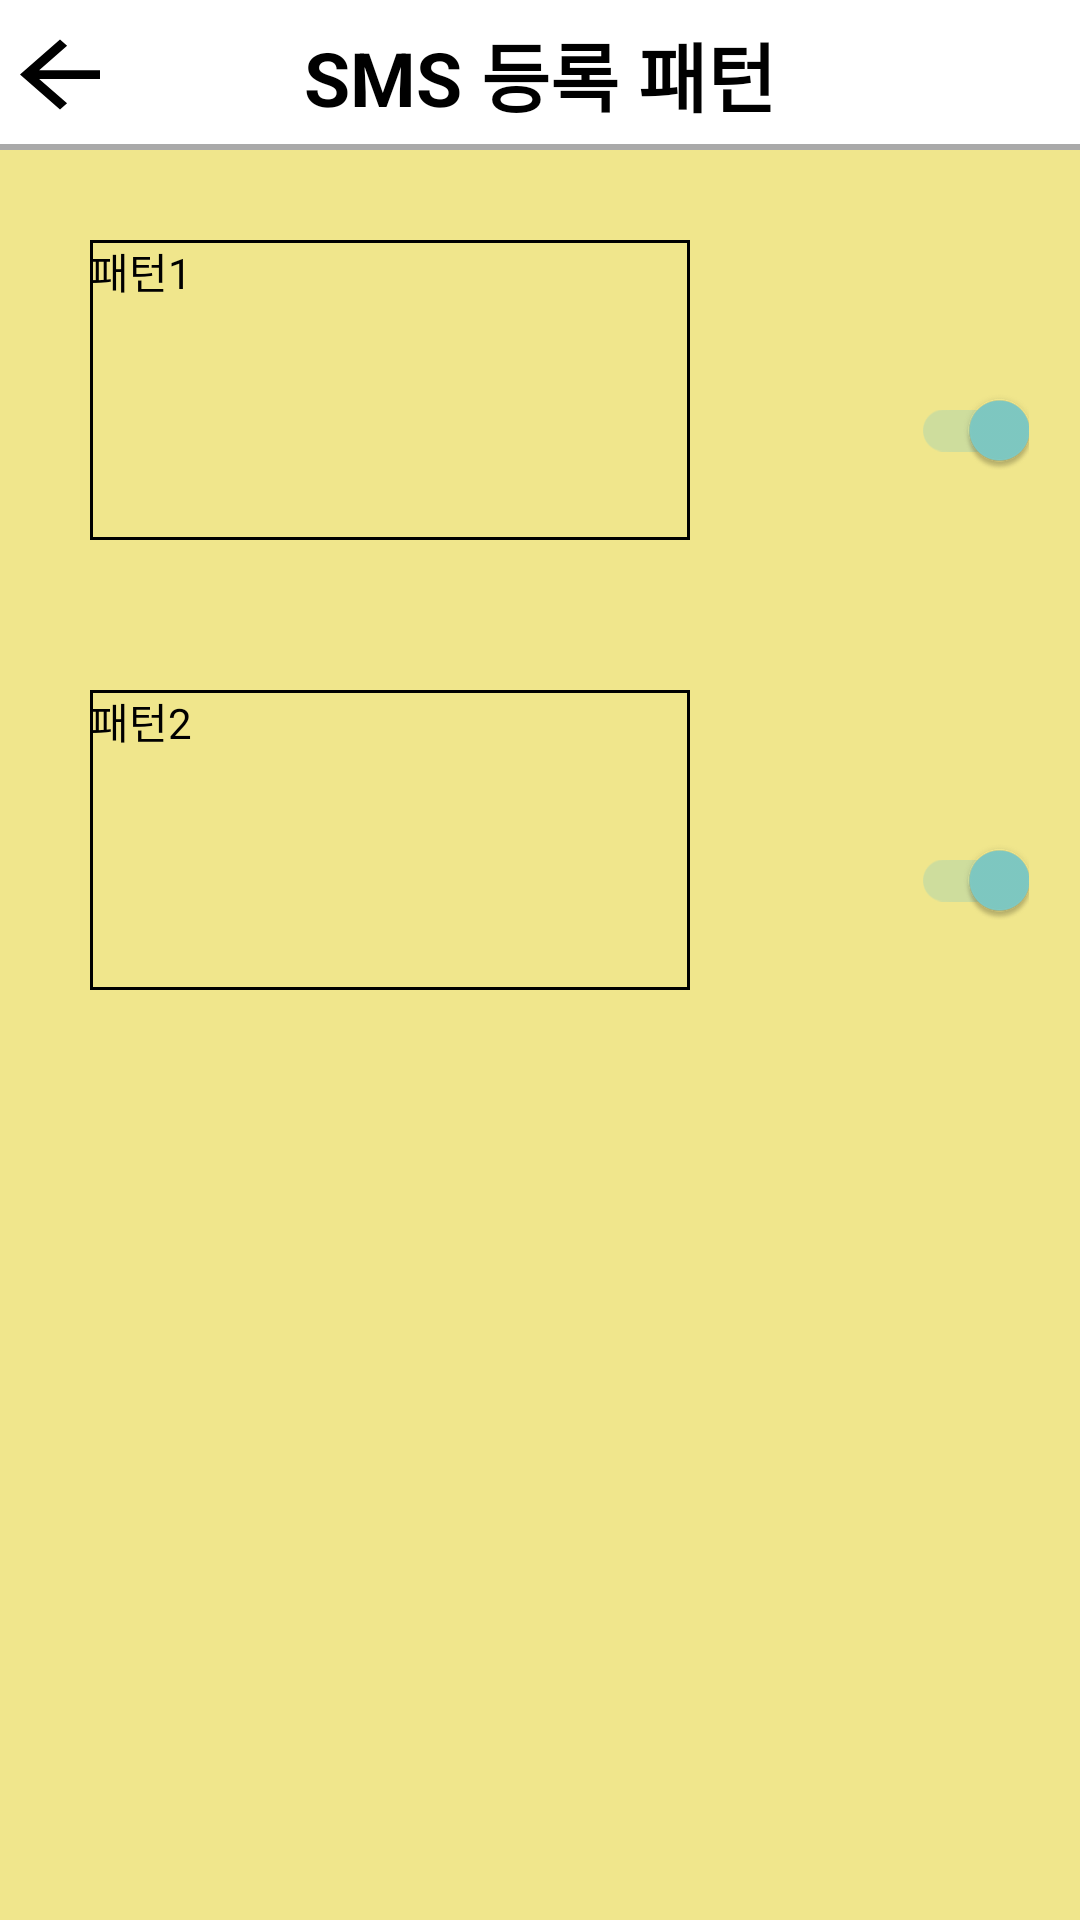

Named icons in this screenshot (1080×1920) and their centers, (x=x, y=y):
arrow back: (x=60, y=74)
